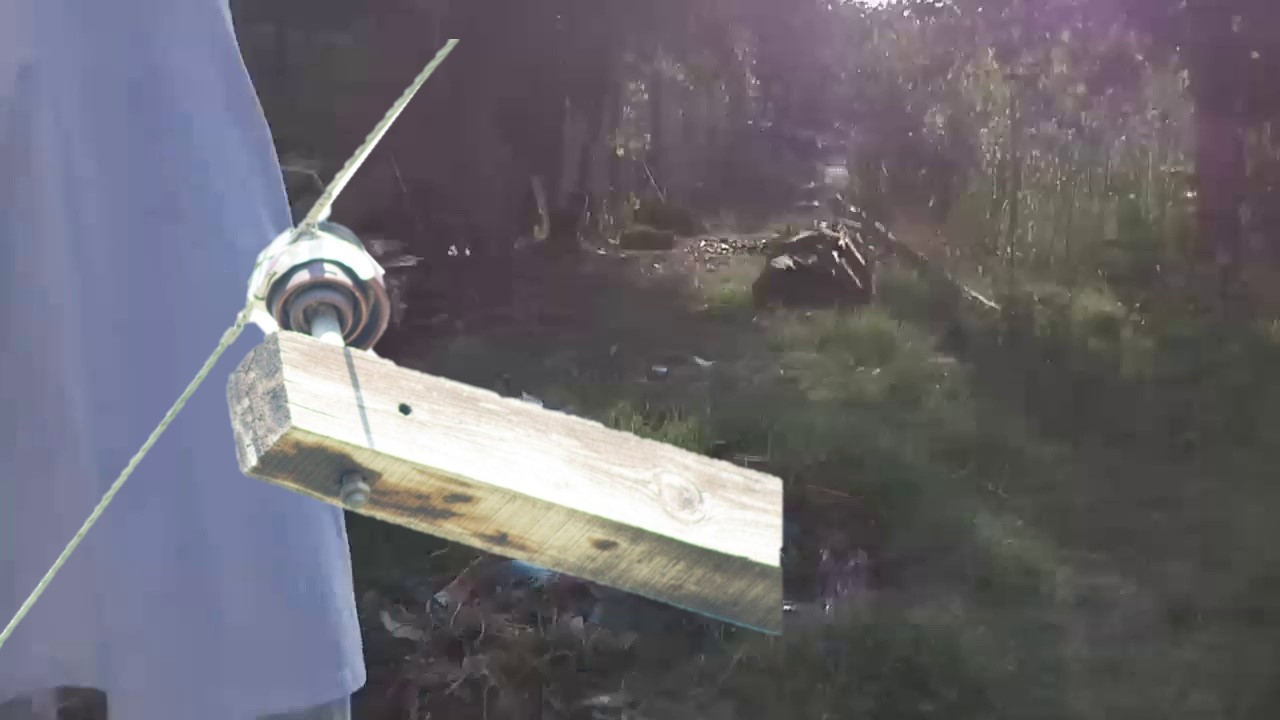defect_pin: (241, 214, 394, 355)
